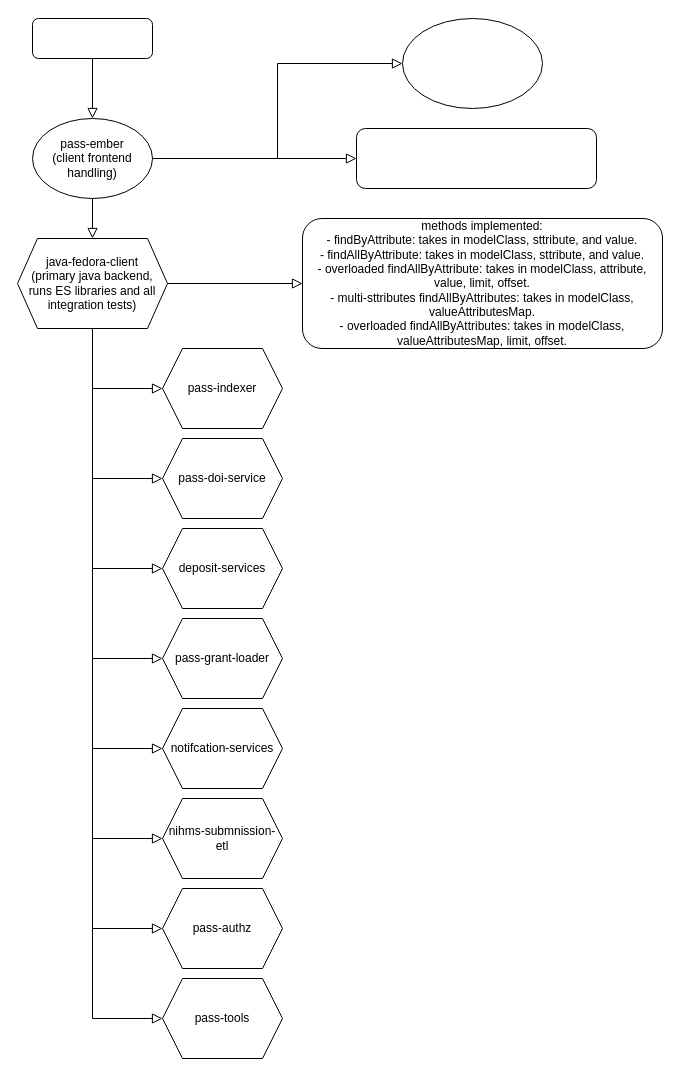
The diagram is 680 pixels wide and 1076 high, and some of its shapes have lost their labels. The shapes that lost their labels are listed below. From the top down, each one's centre as x and y in pixels, then its label:
At [92,38]: "pass-docker (production implementation)".
At [472,63]: "ember-fedora-adapter (frontend query storing)".
At [476,158]: "extensive use of ElasticSearch for autocomplete, queries, etc".
